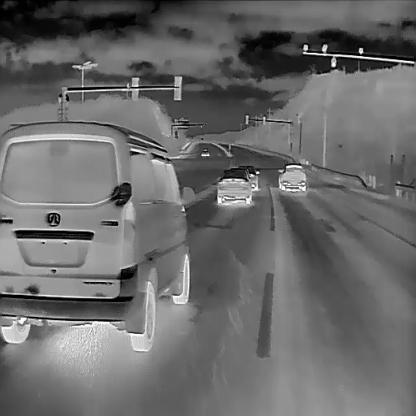car: (0, 119, 195, 350), (217, 167, 252, 204), (276, 160, 306, 190), (235, 163, 259, 188), (200, 146, 210, 156)
